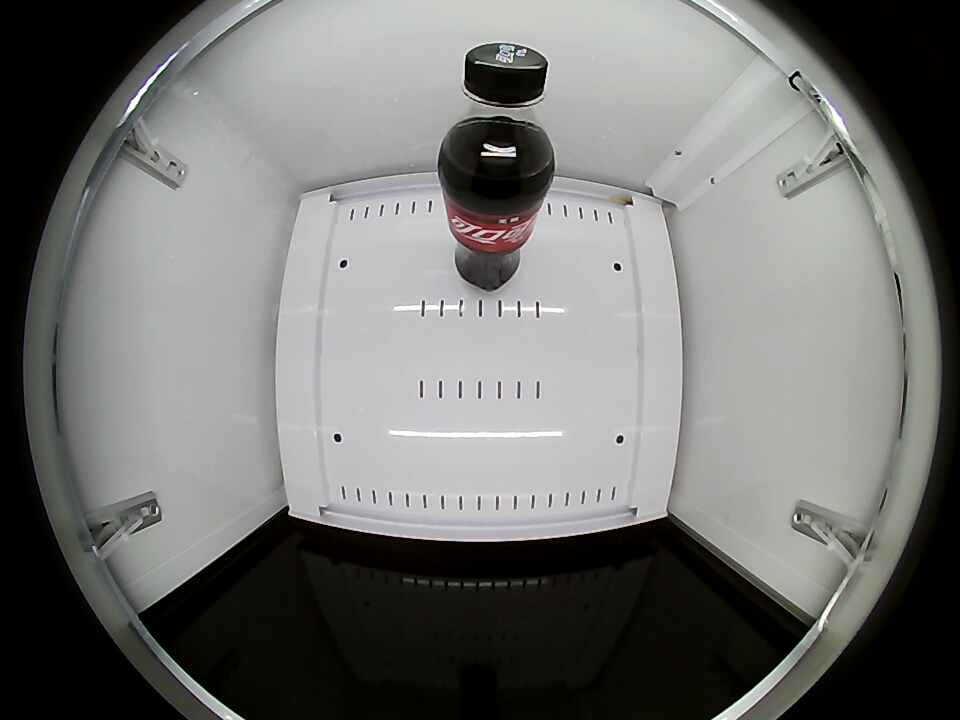lingdukele-b: (442, 42, 553, 181)
